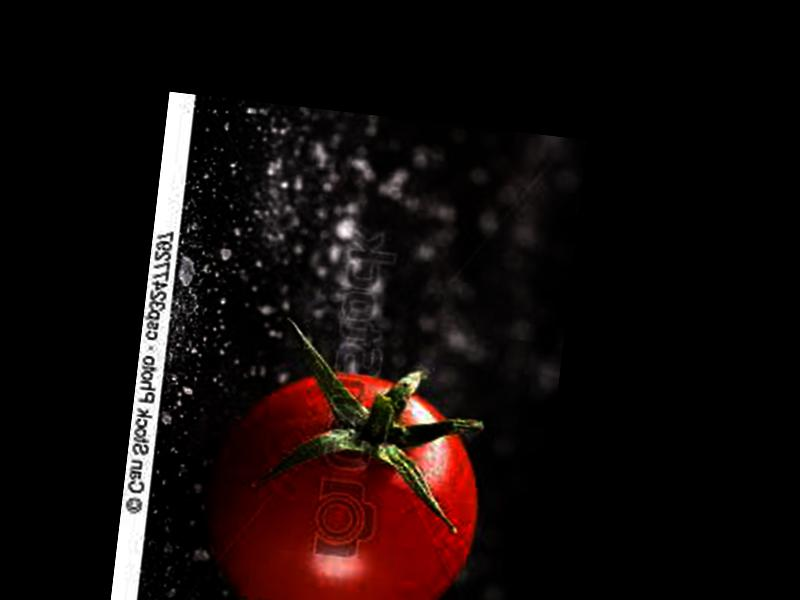Tomato: (195, 358, 492, 600)
